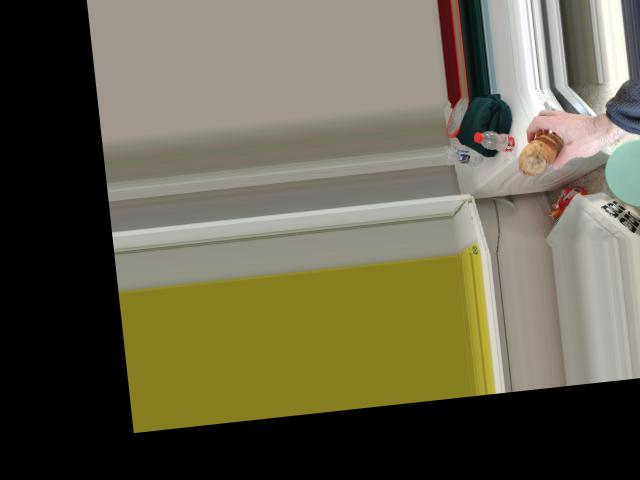sweet_potato: (514, 132, 566, 176)
